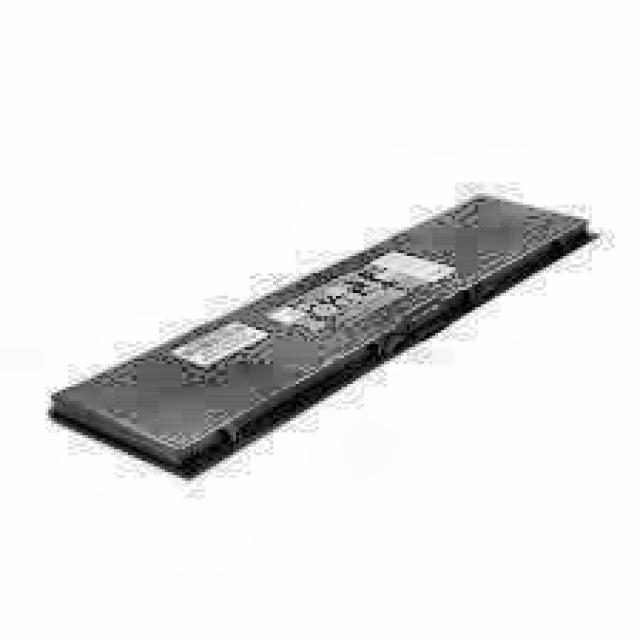Battery: (54, 199, 586, 475)
